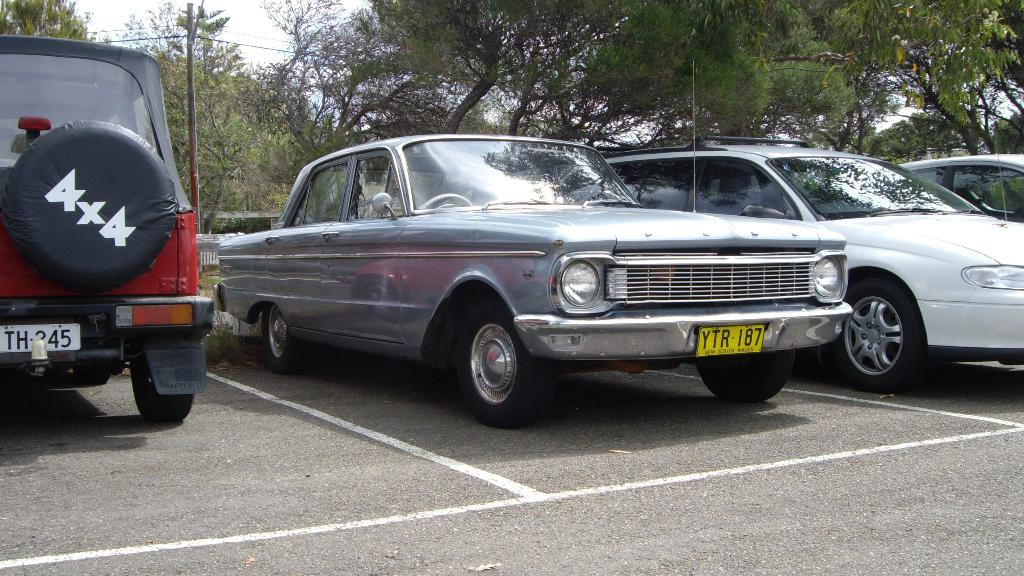Car: (208, 131, 851, 432), (596, 130, 1023, 387), (0, 35, 214, 423), (895, 155, 1023, 230)
